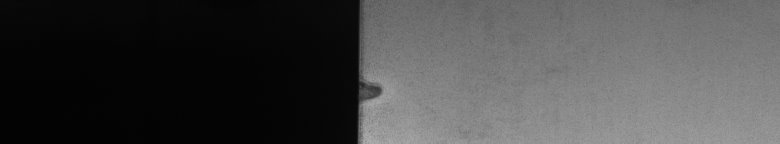hb: (368, 74, 390, 108)
